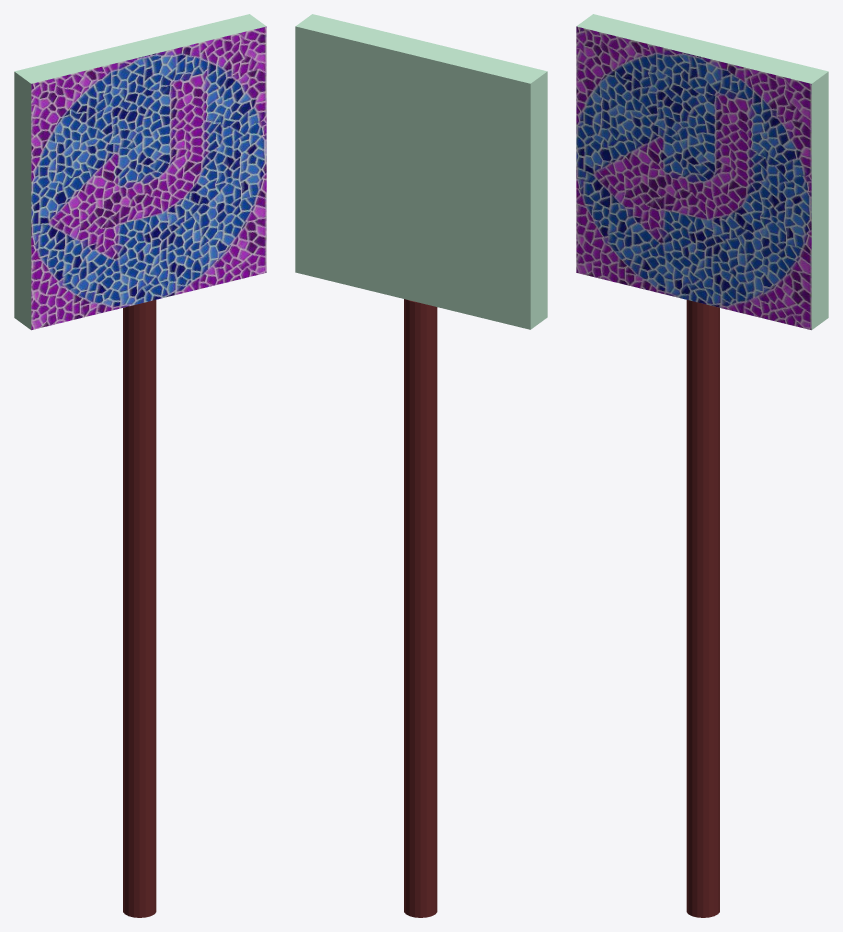
The model's file is nakaz.dae.
3 renders of one model, left to right at view 1: azimuth 30°, elevation 25°; view 2: azimuth 150°, elevation 25°; view 3: azimuth 330°, elevation 25°, orthographic.
Visible parts, largest first — view 1: BSD_Material_p_nakaz__14, CSD_Material_p_nakaz__37, BSD_Material_p_nakaz__15; view 2: BSD_Material_p_nakaz__15, CSD_Material_p_nakaz__37; view 3: BSD_Material_p_nakaz__14, CSD_Material_p_nakaz__37, BSD_Material_p_nakaz__15.
Part boxes in pixels (x1,y1,x2,y2): BSD_Material_p_nakaz__14: [31, 26, 266, 329]; CSD_Material_p_nakaz__37: [123, 300, 156, 917]; BSD_Material_p_nakaz__15: [14, 14, 266, 329]; BSD_Material_p_nakaz__15: [295, 14, 547, 329]; CSD_Material_p_nakaz__37: [404, 299, 437, 917]; BSD_Material_p_nakaz__14: [576, 26, 811, 329]; CSD_Material_p_nakaz__37: [686, 300, 719, 917]; BSD_Material_p_nakaz__15: [576, 14, 828, 329].
Size of the model in its own units: 1.57 by 0.2043 by 5.51.
